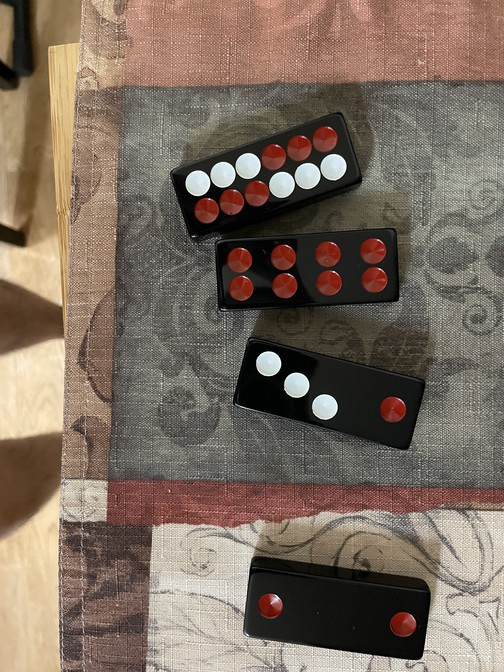earth: (244, 556, 432, 666)
goose: (234, 339, 430, 451)
heaven: (169, 112, 366, 239)
man: (216, 230, 400, 310)
